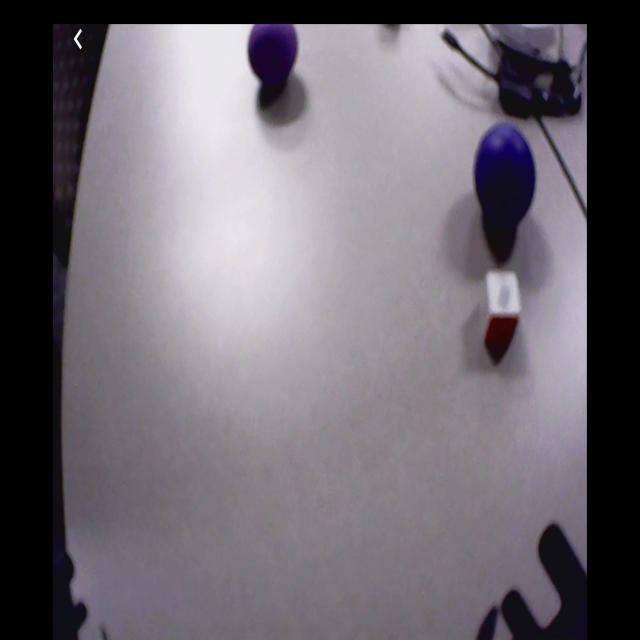ball: (475, 124, 536, 221), (249, 26, 299, 85)
